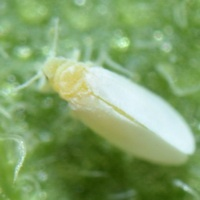insect: (16, 18, 194, 164)
